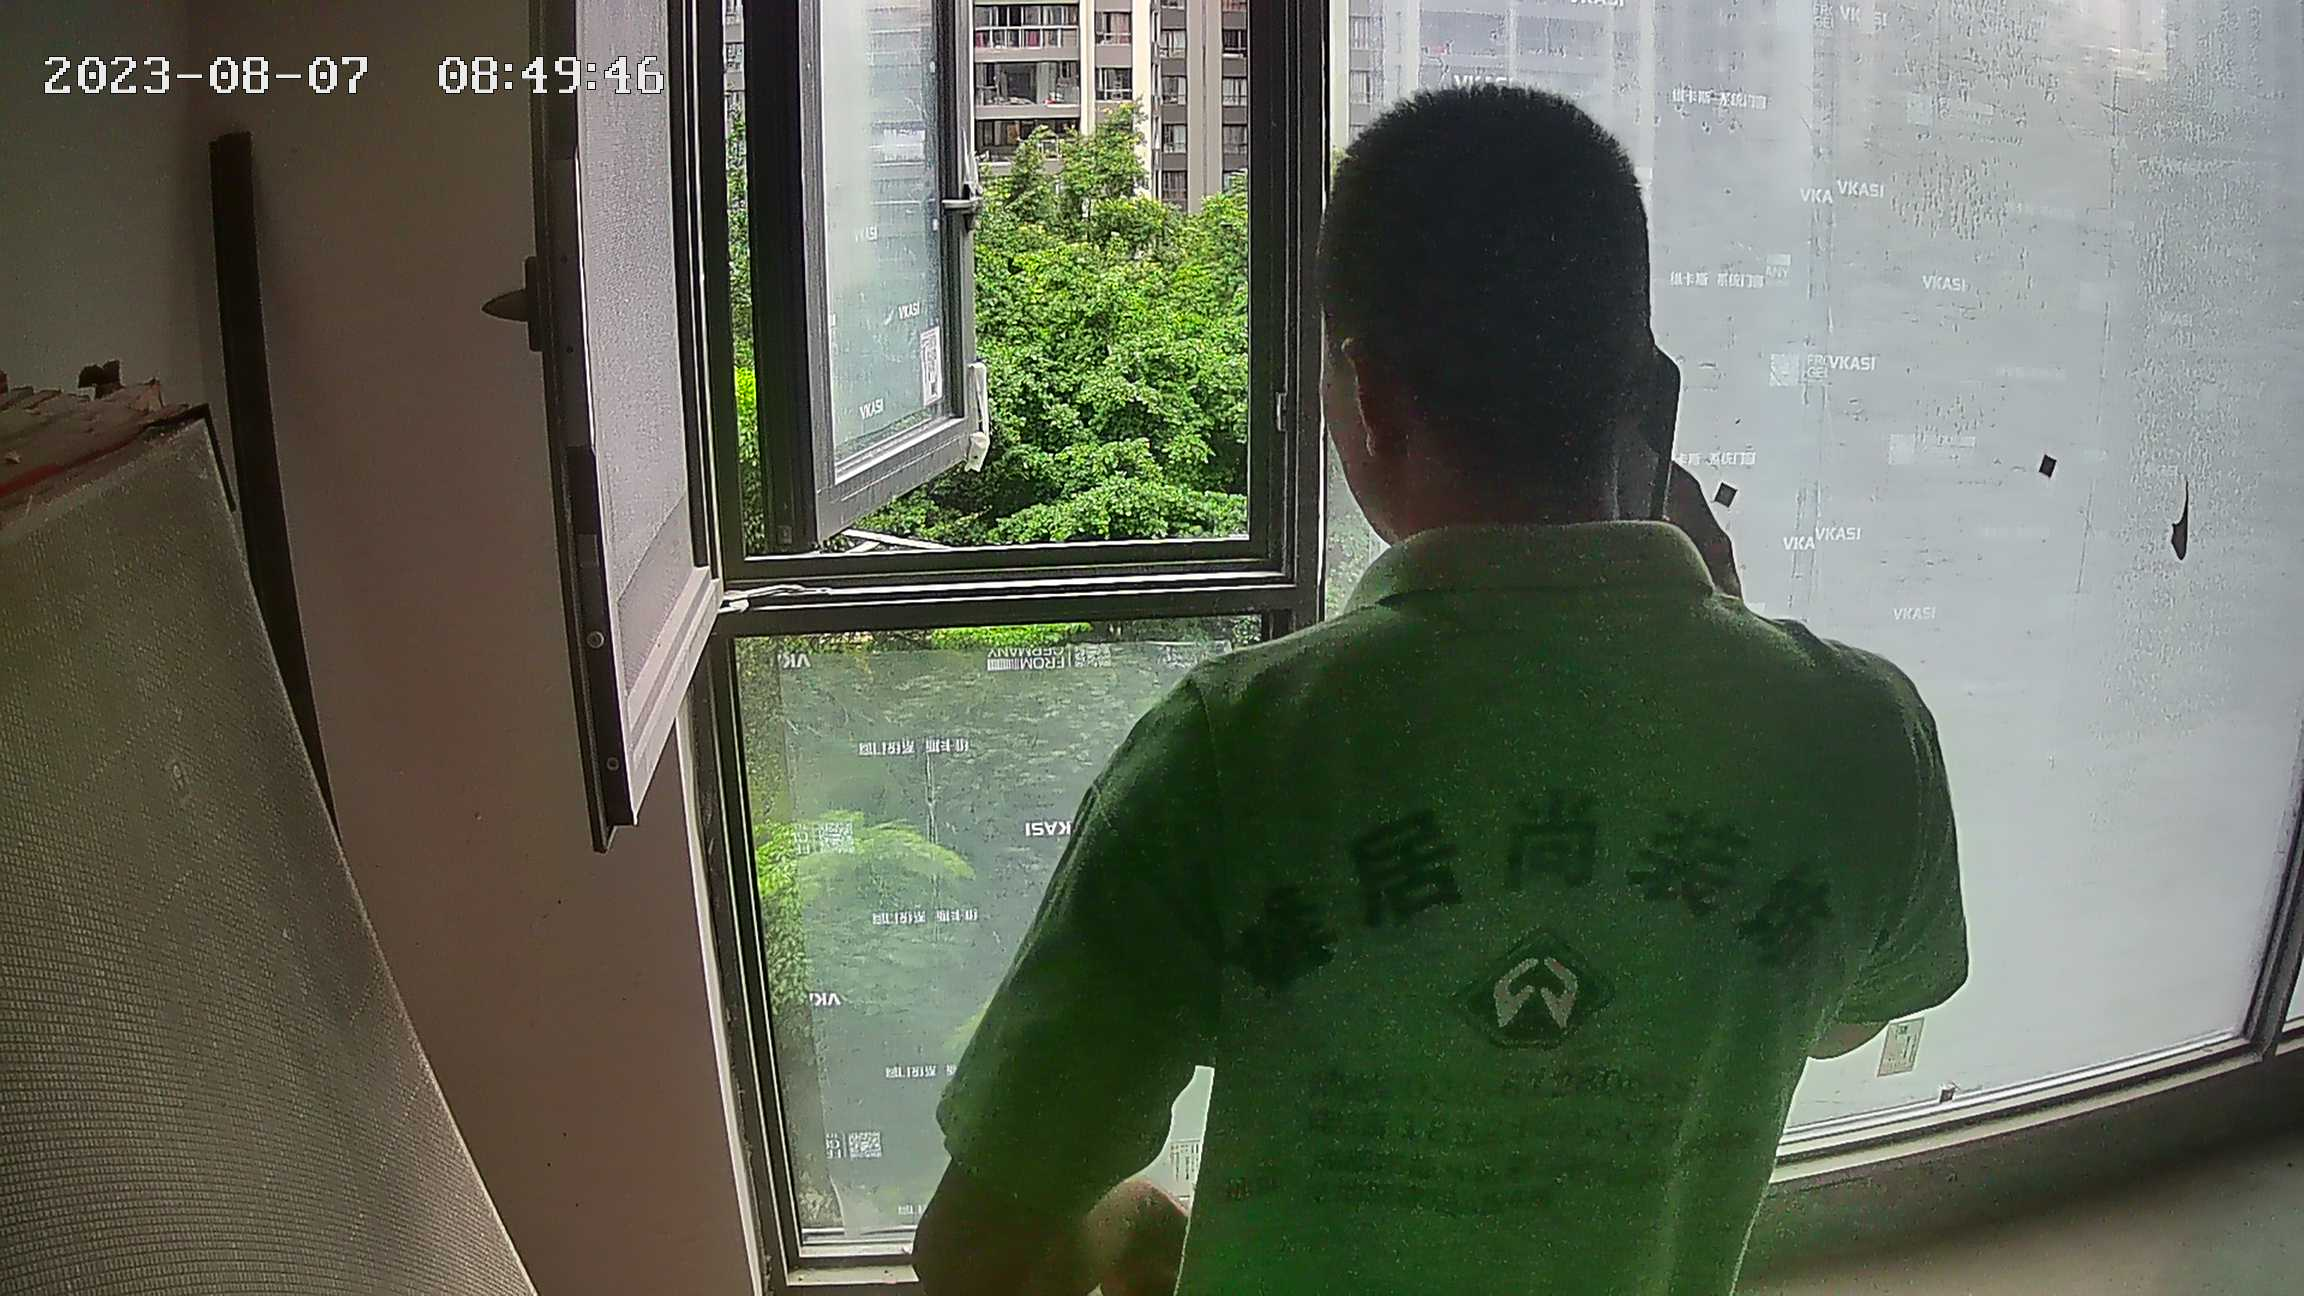people: (932, 87, 1975, 1296)
window: (653, 10, 2304, 1196)
